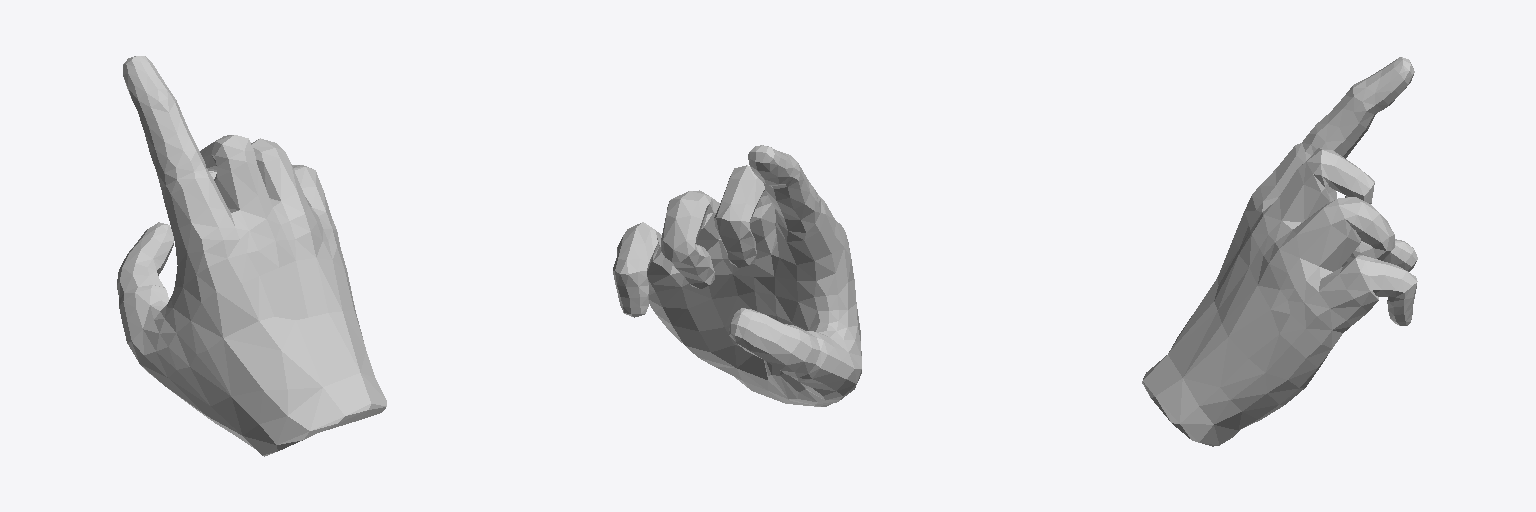
Rendered from cursor_hand.obj.
3 views of the same model, side by side, from view 1: azimuth 30°, elevation 25°; view 2: azimuth 150°, elevation 25°; view 3: azimuth 270°, elevation 25° (orthographic).
Parts seen in each view (by area): view 1: textureBakeSet5 cursor_hand_model_Mesh; view 2: textureBakeSet5 cursor_hand_model_Mesh; view 3: textureBakeSet5 cursor_hand_model_Mesh.
Boxes of the visible parts, x1=… form: textureBakeSet5 cursor_hand_model_Mesh: x1=117, y1=56, x2=386, y2=456; textureBakeSet5 cursor_hand_model_Mesh: x1=613, y1=145, x2=861, y2=406; textureBakeSet5 cursor_hand_model_Mesh: x1=1142, y1=57, x2=1417, y2=446.
Bounding box in the file's own units: 0.8469 × 1.3 × 0.9602.